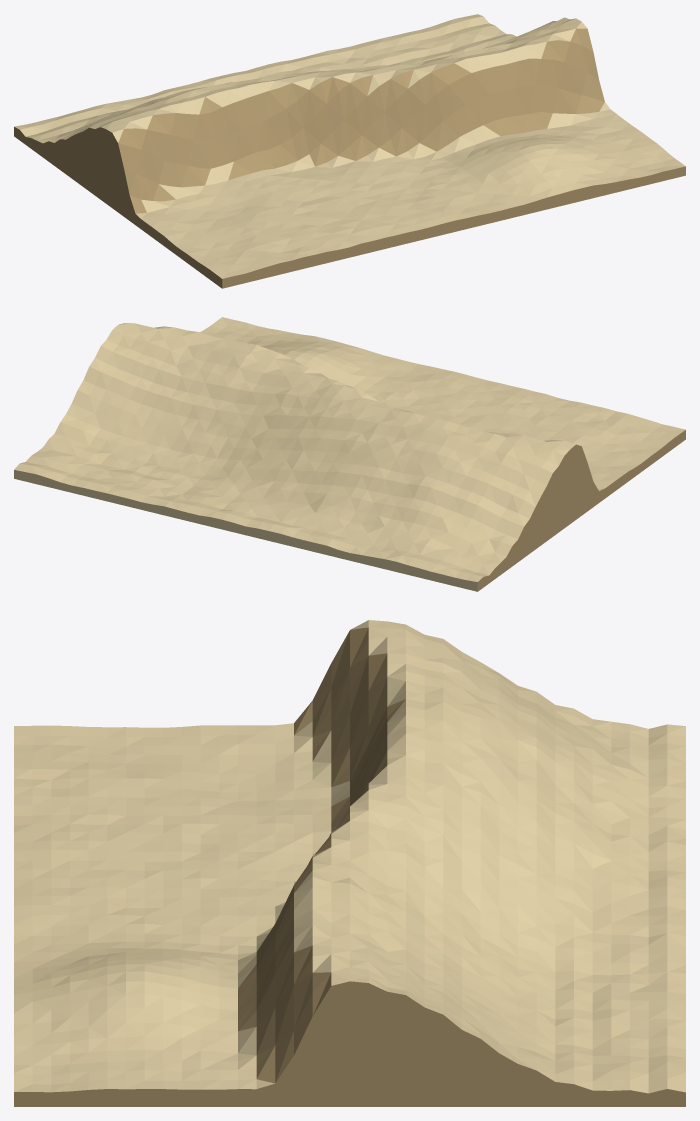
The model's file is TERRAIN_10.obj.
The picture shows the model from 3 angles, top to bottom: view 1: azimuth 30°, elevation 25°; view 2: azimuth 150°, elevation 25°; view 3: azimuth 270°, elevation 25°; orthographic projection. The views are drawn at different scales.
Parts seen in each view (by area): view 1: TERRAIN_10; view 2: TERRAIN_10; view 3: TERRAIN_10.
Boxes of the visible parts, box(x1,y1,x2,y2) form: TERRAIN_10: box(14, 14, 685, 288); TERRAIN_10: box(14, 317, 685, 591); TERRAIN_10: box(14, 620, 685, 1106).
Size of the model in its own units: 72 by 11.9 by 56.
